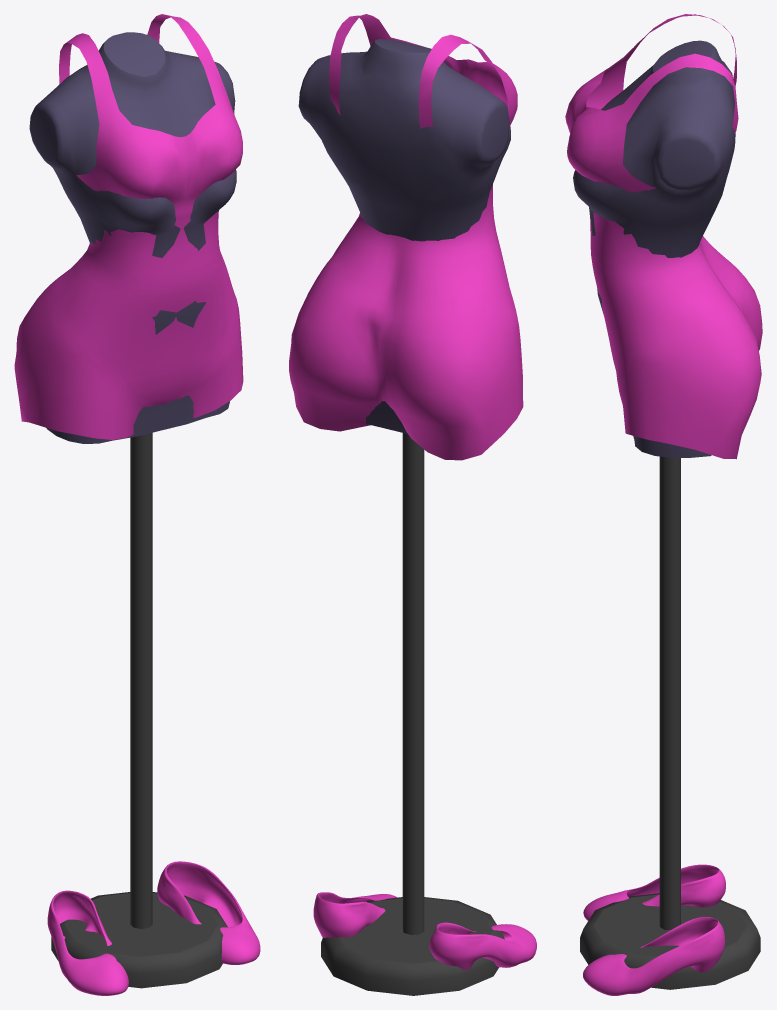
File: Dress_5.fbx
The picture shows the model from 3 angles, left to right: view 1: azimuth 30°, elevation 25°; view 2: azimuth 150°, elevation 25°; view 3: azimuth 270°, elevation 25°; orthographic projection. The views are drawn at different scales.
Parts seen in each view (by area): view 1: dress_4, dummy_1, shoes_4; view 2: dummy_1, dress_4, shoes_4; view 3: dummy_1, dress_4, shoes_4.
Boxes of the visible parts, <box> form: dress_4: <box>14,14,243,439</box>; dummy_1: <box>29,32,236,988</box>; shoes_4: <box>47,861,260,995</box>; dummy_1: <box>298,39,510,995</box>; dress_4: <box>289,14,523,460</box>; shoes_4: <box>313,892,536,969</box>; dummy_1: <box>573,40,760,989</box>; dress_4: <box>565,14,762,459</box>; shoes_4: <box>583,864,725,995</box>.
Bounding box in the file's own units: 0.3809 × 1.7 × 0.3296.
